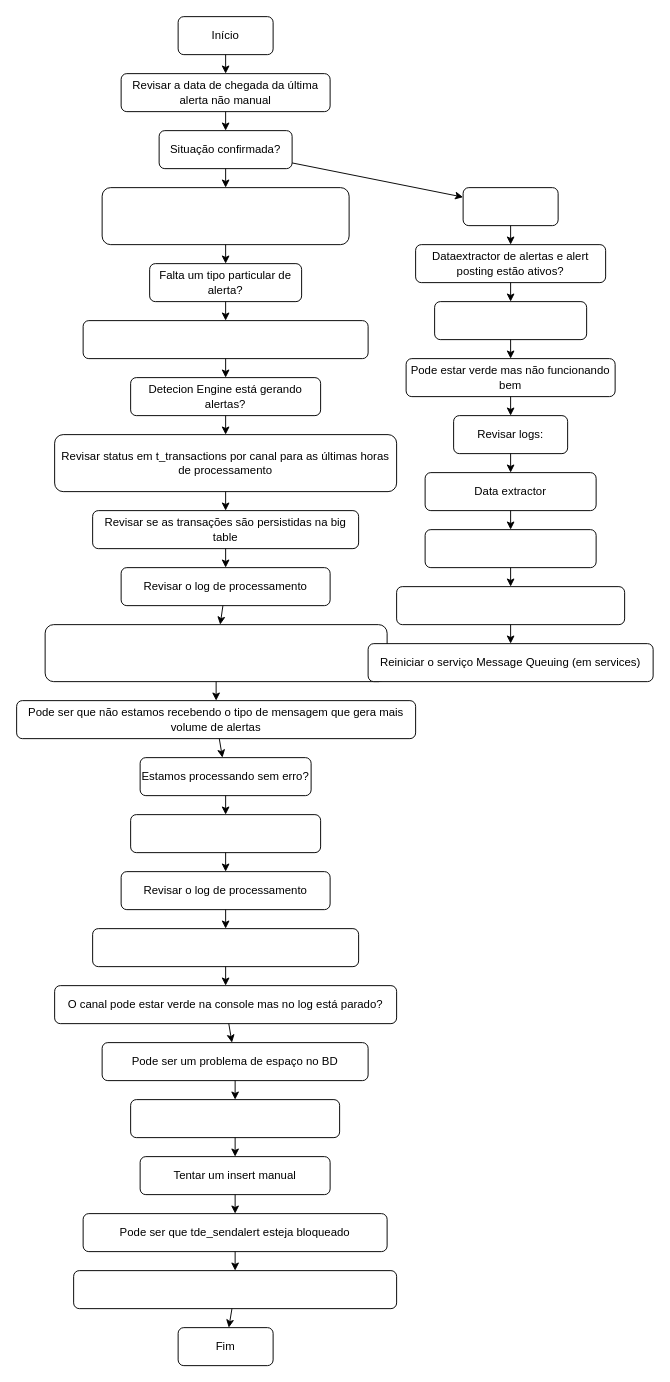
The diagram is 670 pixels wide and 1382 high, and some of its shapes have lost their labels. Here are the shapes that lost their labels. From the top down, the centre of each, then its label:
At point 225,216: "Informar com detalhes da última alerta recebida e em qual fila".
At point 510,206: "Sem Alertas".
At point 225,339: "Não estão chegando alertas em determinadas filas".
At point 510,320: "Se não estiverem verdes, reiniciar".
At point 510,548: "Alert posting".
At point 510,605: "Event viewer (versões antigas)".
At point 215,653: "Revisar as regras que mais geram alertas e tipos de mensagens configuradas".
At point 225,833: "Alertas estão no canal de saída?".
At point 225,947: "Reiniciar canal pela console web do DE".
At point 235,1118: "Pedir que os DBAs revisem".
At point 235,1289: "Revisar logs de processamento buscando erros".
